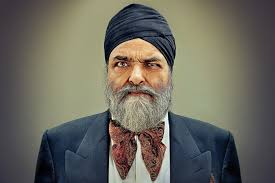helmet: (102, 4, 178, 124)
